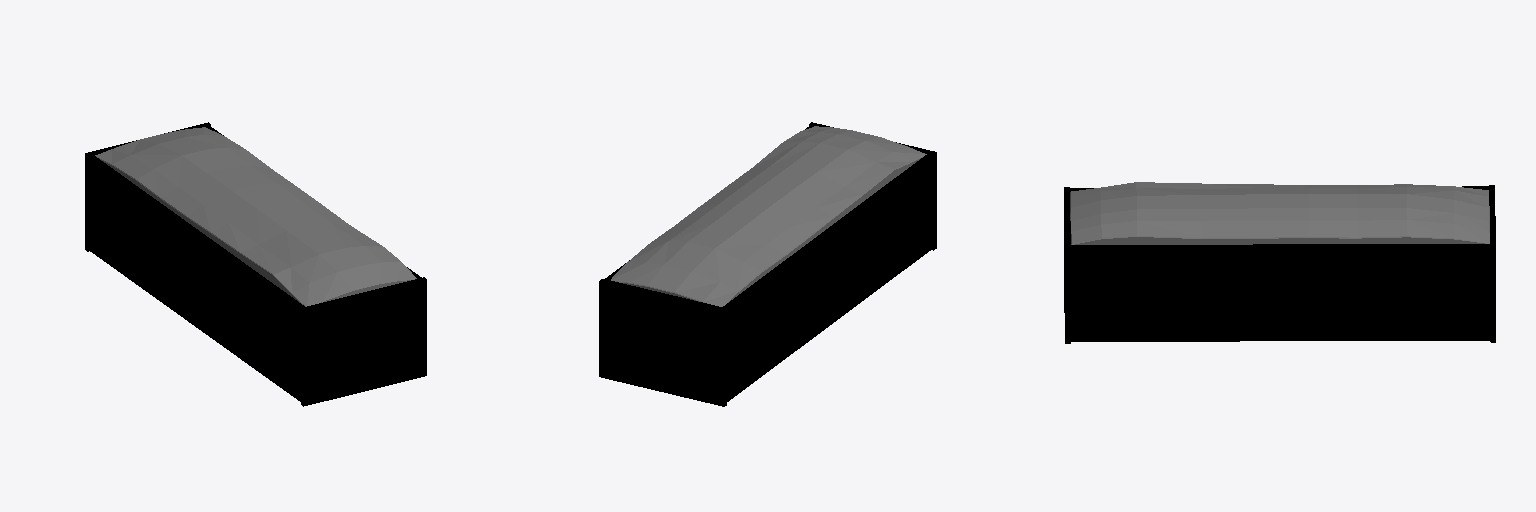
The model's file is hallwayCupboard.obj.
3 views of the same model, side by side, from view 1: azimuth 30°, elevation 25°; view 2: azimuth 150°, elevation 25°; view 3: azimuth 270°, elevation 25° (orthographic).
Visible parts, largest first — view 1: pCube31; view 2: pCube31; view 3: pCube31.
Part boxes in pixels (x1,y1,x2,y2): pCube31: (85, 122, 426, 406); pCube31: (599, 122, 936, 406); pCube31: (1064, 182, 1495, 343).
Bounding box in the file's own units: 0.6368 × 0.5413 × 1.86.